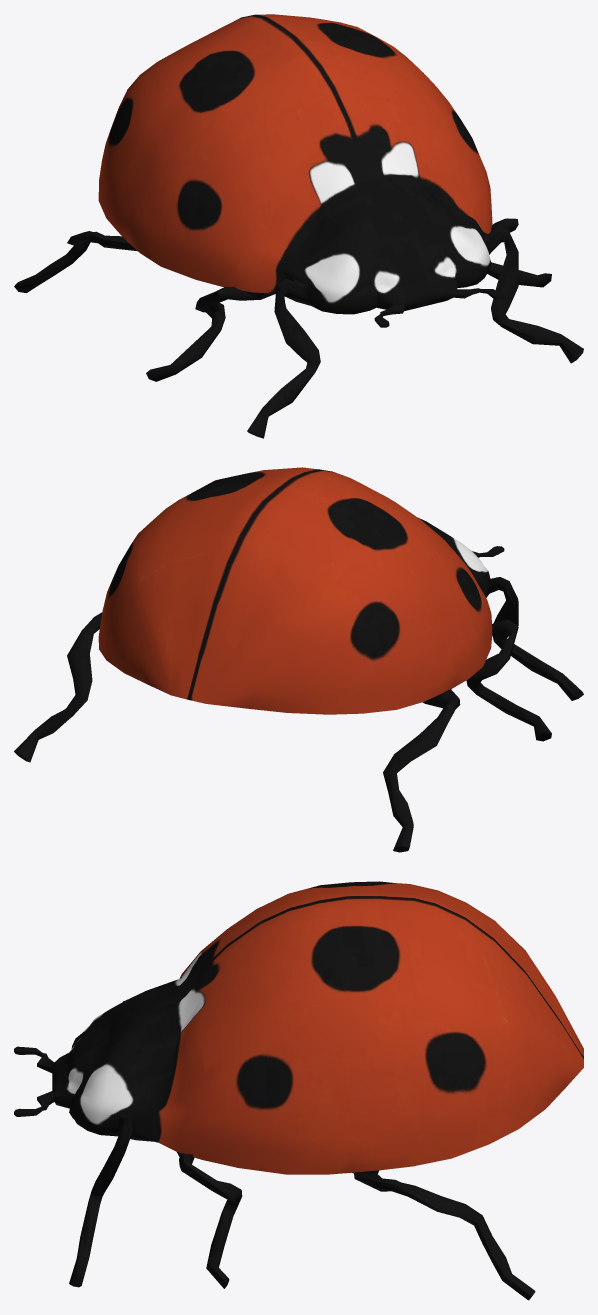
Rendered from realladybug.glb.
The picture shows the model from 3 angles, top to bottom: view 1: azimuth 30°, elevation 25°; view 2: azimuth 150°, elevation 25°; view 3: azimuth 270°, elevation 25°; orthographic projection. The views are drawn at different scales.
Parts seen in each view (by area): view 1: Ladybug; view 2: Ladybug; view 3: Ladybug.
Part boxes in pixels (x1=…): Ladybug: x1=14, y1=14, x2=583, y2=438; Ladybug: x1=14, y1=467, x2=583, y2=852; Ladybug: x1=14, y1=881, x2=583, y2=1300.
Bounding box in the file's own units: 0.0734 × 0.0473 × 0.08.
Materials: 1 (1 with a texture image).
